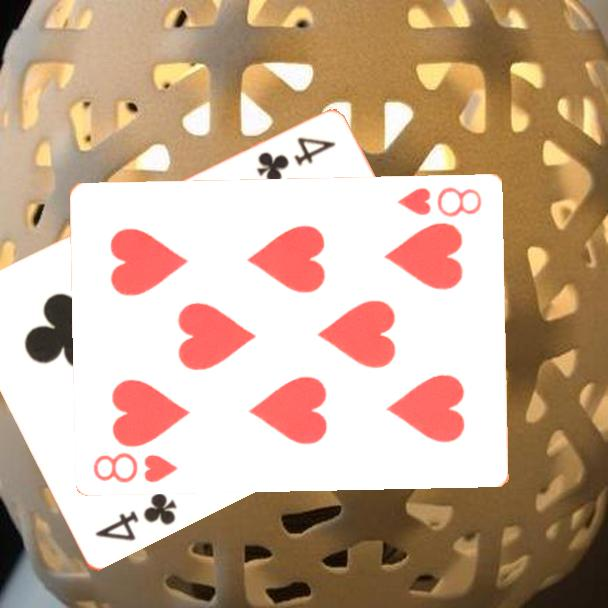c04: (91, 489, 180, 545), (253, 134, 339, 186)
h08: (394, 183, 485, 220), (90, 449, 181, 485)
